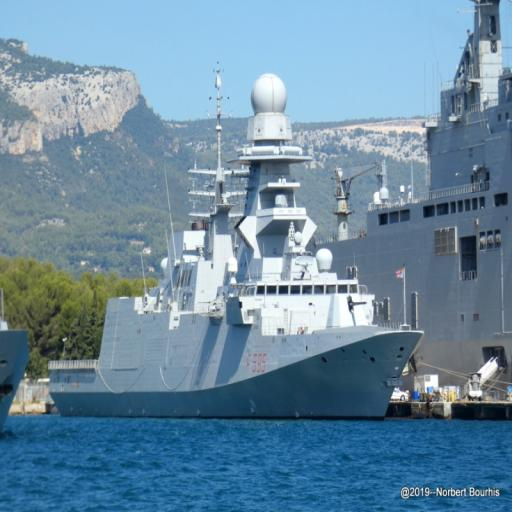Fragata: (38, 63, 429, 426)
